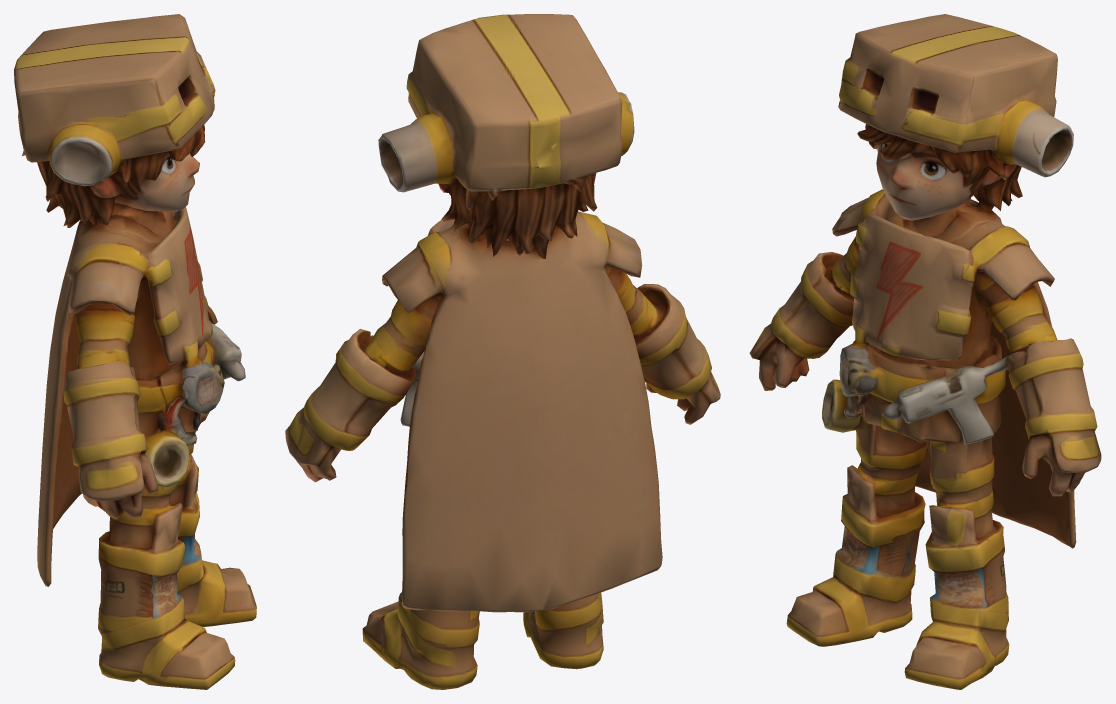
File: character.glb
The picture shows the model from 3 angles, left to right: view 1: azimuth 30°, elevation 25°; view 2: azimuth 150°, elevation 25°; view 3: azimuth 270°, elevation 25°; orthographic projection. The views are drawn at different scales.
Parts seen in each view (by area): view 1: tripo_node_58ea1fb5-8056-4625-95cd-31b451e380be; view 2: tripo_node_58ea1fb5-8056-4625-95cd-31b451e380be; view 3: tripo_node_58ea1fb5-8056-4625-95cd-31b451e380be.
Part boxes in pixels (<box>): tripo_node_58ea1fb5-8056-4625-95cd-31b451e380be: <box>14,14,256,689</box>; tripo_node_58ea1fb5-8056-4625-95cd-31b451e380be: <box>285,14,720,689</box>; tripo_node_58ea1fb5-8056-4625-95cd-31b451e380be: <box>749,14,1101,689</box>.
Bounding box in the file's own units: 0.4779 × 1.01 × 0.5399.
1 material, 1 textured.
